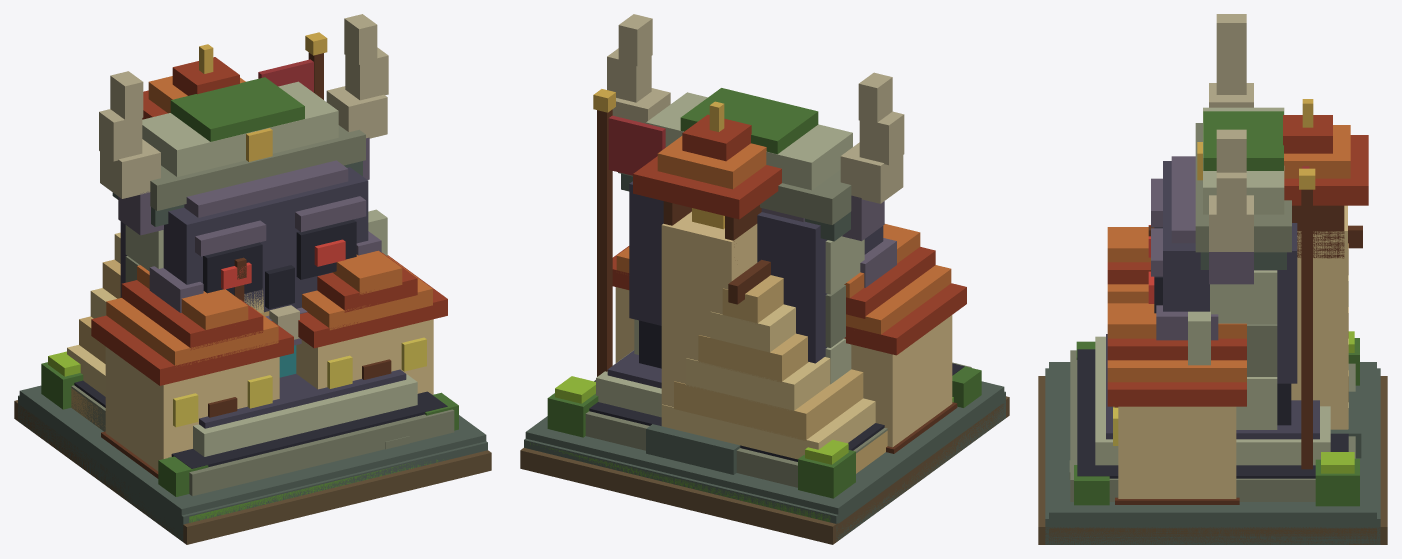
File: minimap-kit.glb
The picture shows the model from 3 angles, left to right: view 1: azimuth 30°, elevation 25°; view 2: azimuth 150°, elevation 25°; view 3: azimuth 270°, elevation 25°; orthographic projection. The views are drawn at different scales.
Visible parts, largest first — view 1: map-village, map-boss, map-ruin, map-camp; view 2: map-village, map-boss, map-camp, map-ruin; view 3: map-village, map-boss, map-ruin, map-camp.
Part boxes in pixels (<box>): map-village: <box>14,44,491,544</box>; map-boss: <box>19,14,486,540</box>; map-ruin: <box>18,77,487,541</box>; map-camp: <box>20,32,409,540</box>; map-village: <box>520,101,1009,544</box>; map-boss: <box>525,14,1004,540</box>; map-camp: <box>593,89,1004,539</box>; map-ruin: <box>524,88,1005,541</box>; map-village: <box>1038,99,1387,544</box>; map-boss: <box>1049,14,1376,544</box>; map-ruin: <box>1045,107,1380,544</box>; map-camp: <box>1049,166,1376,544</box>.
Bounding box in the file's own units: 5 × 6.08 × 4.9.
